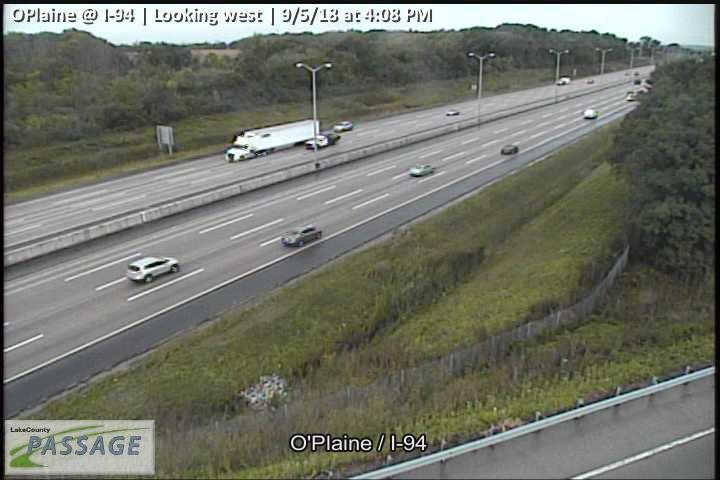SUV: (127, 256, 179, 283), (334, 121, 354, 131), (583, 108, 598, 118)
Sedan: (282, 225, 323, 246), (408, 163, 433, 177), (501, 144, 518, 155)
Truck: (225, 118, 319, 163)
